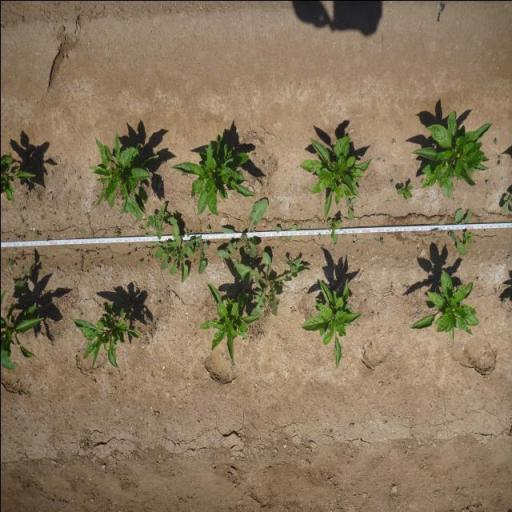plant: (410, 106, 494, 198), (169, 131, 257, 217), (296, 130, 373, 220), (86, 130, 158, 218), (408, 267, 480, 346), (300, 276, 360, 370), (197, 279, 261, 362), (70, 301, 140, 370), (0, 300, 45, 370), (0, 154, 35, 202)
weed: (232, 251, 312, 315), (213, 195, 269, 260), (168, 222, 194, 283), (448, 204, 473, 257), (145, 231, 172, 274), (186, 234, 210, 276), (146, 201, 170, 238), (13, 257, 34, 293), (326, 218, 343, 242), (274, 223, 296, 240), (396, 182, 414, 200), (344, 195, 356, 221), (501, 190, 512, 216), (283, 255, 299, 271), (463, 229, 472, 249), (118, 200, 125, 214), (4, 257, 14, 265), (262, 307, 270, 316), (32, 230, 39, 240), (204, 222, 211, 232), (498, 298, 506, 305), (184, 228, 190, 237), (136, 224, 142, 232), (78, 256, 84, 264), (316, 232, 322, 240), (378, 237, 384, 245), (289, 307, 295, 314), (484, 179, 490, 186), (319, 244, 324, 252), (113, 232, 119, 238), (112, 226, 118, 232), (160, 157, 166, 163), (136, 258, 142, 264), (172, 210, 178, 216), (144, 220, 148, 228), (145, 251, 150, 257), (266, 155, 272, 160), (390, 138, 396, 143), (496, 160, 501, 166), (496, 154, 502, 159), (260, 158, 264, 165), (494, 137, 498, 144), (389, 178, 393, 184), (45, 235, 48, 241), (251, 153, 255, 156), (265, 182, 268, 186), (354, 235, 357, 239), (352, 240, 354, 244)
